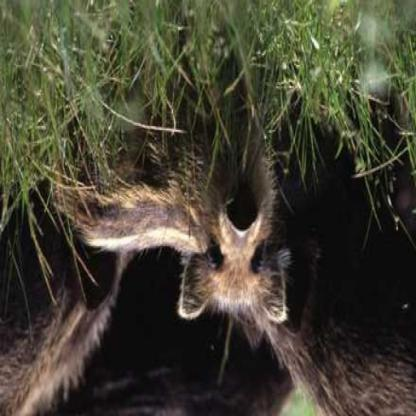boar: (45, 93, 382, 317), (259, 177, 415, 415), (0, 230, 120, 416)
